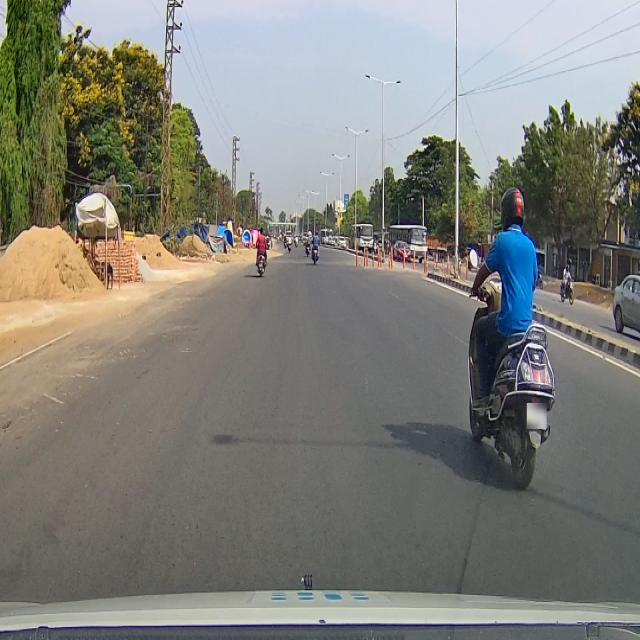motorcycle ahead at: (463, 319, 560, 503)
